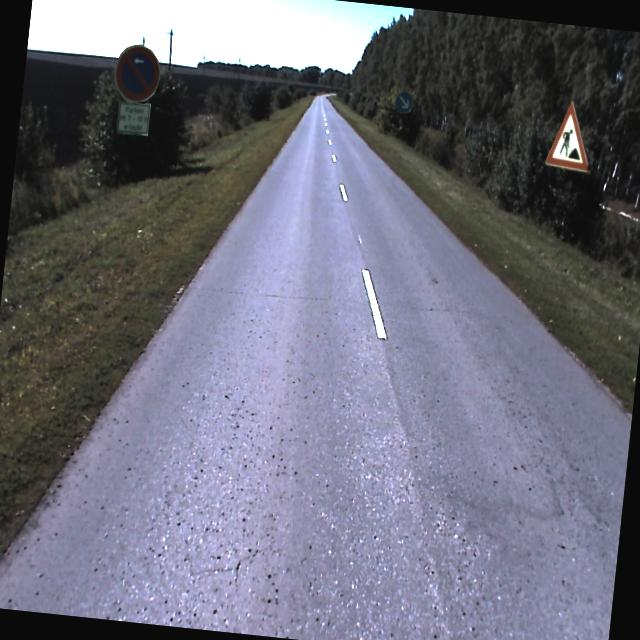road: (0, 96, 631, 640)
